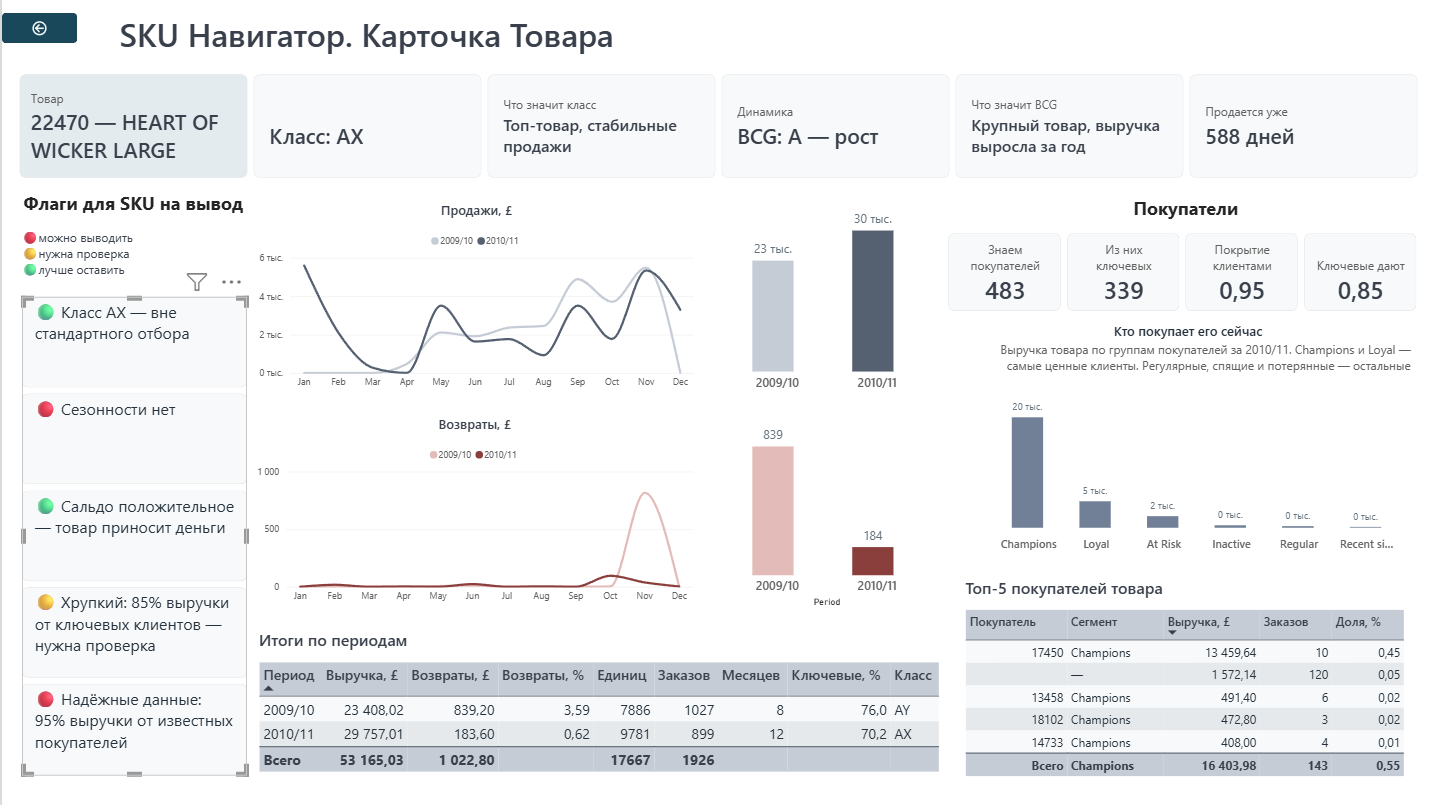

Layout of this report page (visuals, bound fields, positions):
{"tool":"powerbi","page":{"name":"Проверка SKU","canvas":[1920,1080],"ordinal":2},"visuals":[{"type":"actionButton","box":[0,20,100,40],"z":0},{"type":"cardVisual","fields":{"Data":["_Measures.SKU Title","_Measures.Class Label","_Measures.Class Meaning","_Measures.BCG Label","_Measures.BCG Meaning","_Measures.History Label"]},"box":[24,102,1864,138],"z":1000},{"type":"cardVisual","fields":{"Data":["_Measures.Reason Class","_Measures.Reason Seasonal","_Measures.Reason Balance","_Measures.Reason Key","_Measures.Reason Coverage"]},"box":[26,398,300,638],"z":2000},{"type":"textbox","box":[26,256,280,142],"z":3000},{"type":"lineChart","title":"Продажи, £","fields":{"Category":["MartSkuMonth.Месяц"],"Series":["MartSkuMonth.Period"],"Y":["MartSkuMonth.Revenue for SKU"]},"box":[326,256,612,284],"z":4000},{"type":"lineChart","title":"Возвраты, £","fields":{"Category":["MartSkuMonth.Месяц"],"Series":["MartSkuMonth.Period"],"Y":["MartSkuMonth.Returns for SKU"]},"box":[324,542,614,284],"z":5000},{"type":"columnChart","title":"Сравнение периодов","fields":{"Category":["MartSkuMonth.Period"],"Y":["MartSkuMonth.Revenue for SKU"]},"box":[938,256,324,286],"z":6000},{"type":"tableEx","title":"Итоги по периодам","fields":{"Values":["MartSkuPeriod.Period","Sum(MartSkuPeriod.revenue)","Sum(MartSkuPeriod.negative_amount)","MartSkuPeriod.negative_to_sales_pct","Sum(MartSkuPeriod.units)","Sum(MartSkuPeriod.orders)","MartSkuPeriod.active_months","MartSkuPeriod.key_customer_share_pct","MartSkuPeriod.ABC_XYZ"]},"box":[326,826,942,236],"z":7000},{"type":"columnChart","title":"Кто покупает его сейчас","fields":{"Category":["MartRfm.RFM_segment"],"Y":["MartSkuMonth.Revenue by Segment"]},"box":[1268,418,626,338],"z":8000},{"type":"tableEx","title":"Топ-5 покупателей товара","fields":{"Values":["FactSales.CustomerID","MartRfm.Customer Segment","MartRfm.Customer SKU Revenue","MartRfm.Customer SKU Orders","MartRfm.Customer SKU Share %"]},"box":[1268,756,620,306],"z":9000},{"type":"cardVisual","fields":{"Data":["FactSales.Known Customers SKU","FactSales.Key Customers SKU","FactSales.Coverage SKU %","FactSales.Key Share SKU %"]},"box":[1262,314,626,104],"z":10000},{"type":"columnChart","title":"Сравнение периодов","fields":{"Category":["MartSkuMonth.Period"],"Y":["MartSkuMonth.Returns for SKU"]},"box":[938,542,324,284],"z":11000},{"type":"textbox","box":[1268,264,620,50],"z":12000},{"type":"textbox","box":[156,0,672,102],"z":13000}]}

Visuals, with their boxes in screenshot pixels (x1, y1, x2, y2), scaled from the page's 1920x1080 canvas onto the 1440x805 screenshot:
actionButton: 0, 15, 75, 45
cardVisual - _Measures.SKU Title x _Measures.Class Label: 18, 76, 1416, 179
cardVisual - _Measures.Reason Class x _Measures.Reason Seasonal: 20, 297, 244, 772
textbox: 20, 191, 230, 297
"Продажи, £" lineChart: 244, 191, 704, 402
"Возвраты, £" lineChart: 243, 404, 704, 616
"Сравнение периодов" columnChart: 704, 191, 946, 404
"Итоги по периодам" tableEx: 244, 616, 951, 792
"Кто покупает его сейчас" columnChart: 951, 312, 1420, 564
"Топ-5 покупателей товара" tableEx: 951, 564, 1416, 792
cardVisual - FactSales.Known Customers SKU x FactSales.Key Customers SKU: 946, 234, 1416, 312
"Сравнение периодов" columnChart: 704, 404, 946, 616
textbox: 951, 197, 1416, 234
textbox: 117, 0, 621, 76
